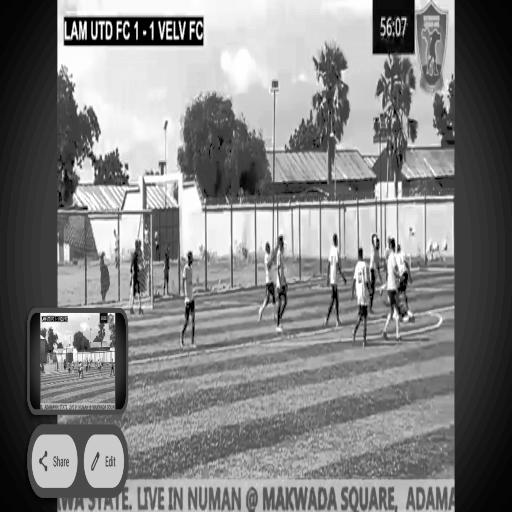keeper1: (129, 230, 143, 318)
team1: (174, 246, 197, 357), (351, 235, 371, 350), (397, 211, 414, 327), (324, 234, 340, 332), (274, 229, 288, 334), (366, 225, 382, 313)
team2: (258, 235, 278, 330), (385, 232, 401, 343)
